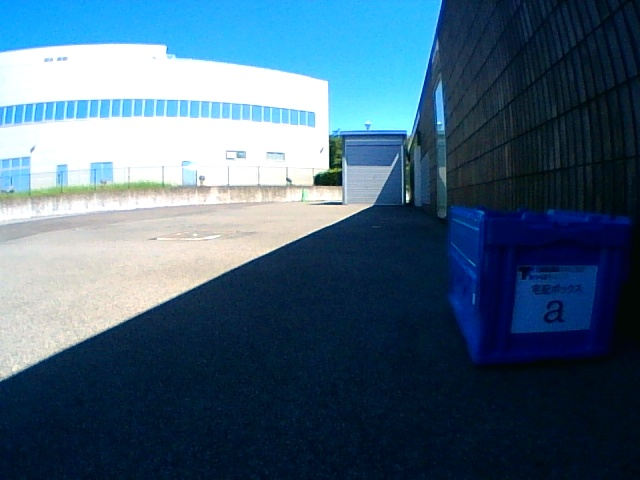blue_box: (449, 206, 627, 363)
tag_a: (522, 274, 587, 328)
